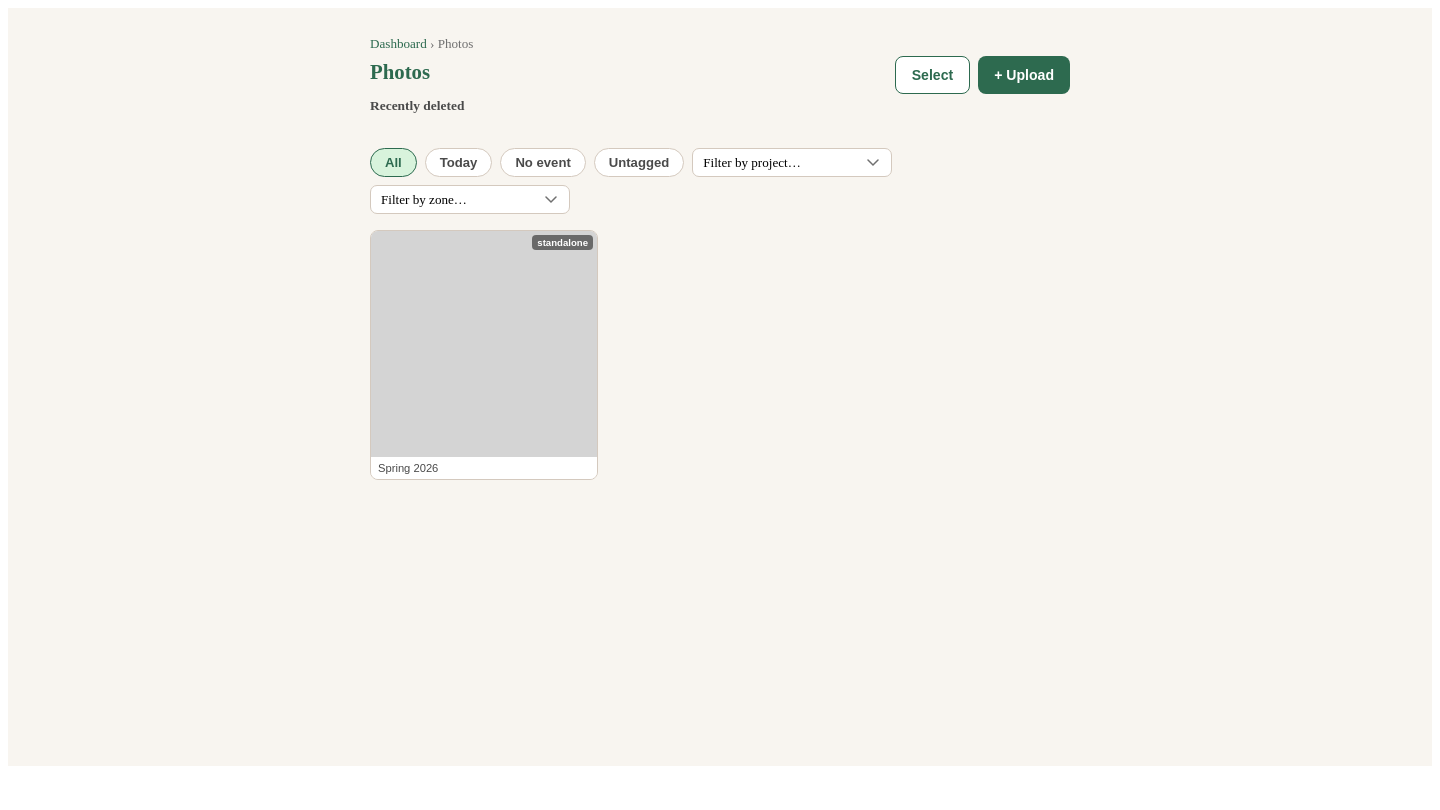
Test: BUG-PICKERCLIP-001 — the z150 selection bar must not cover the upload picker › can render the fixed bar and the upload form at the same time
Click the button "Select" at (932, 75), box [895, 56, 970, 94]
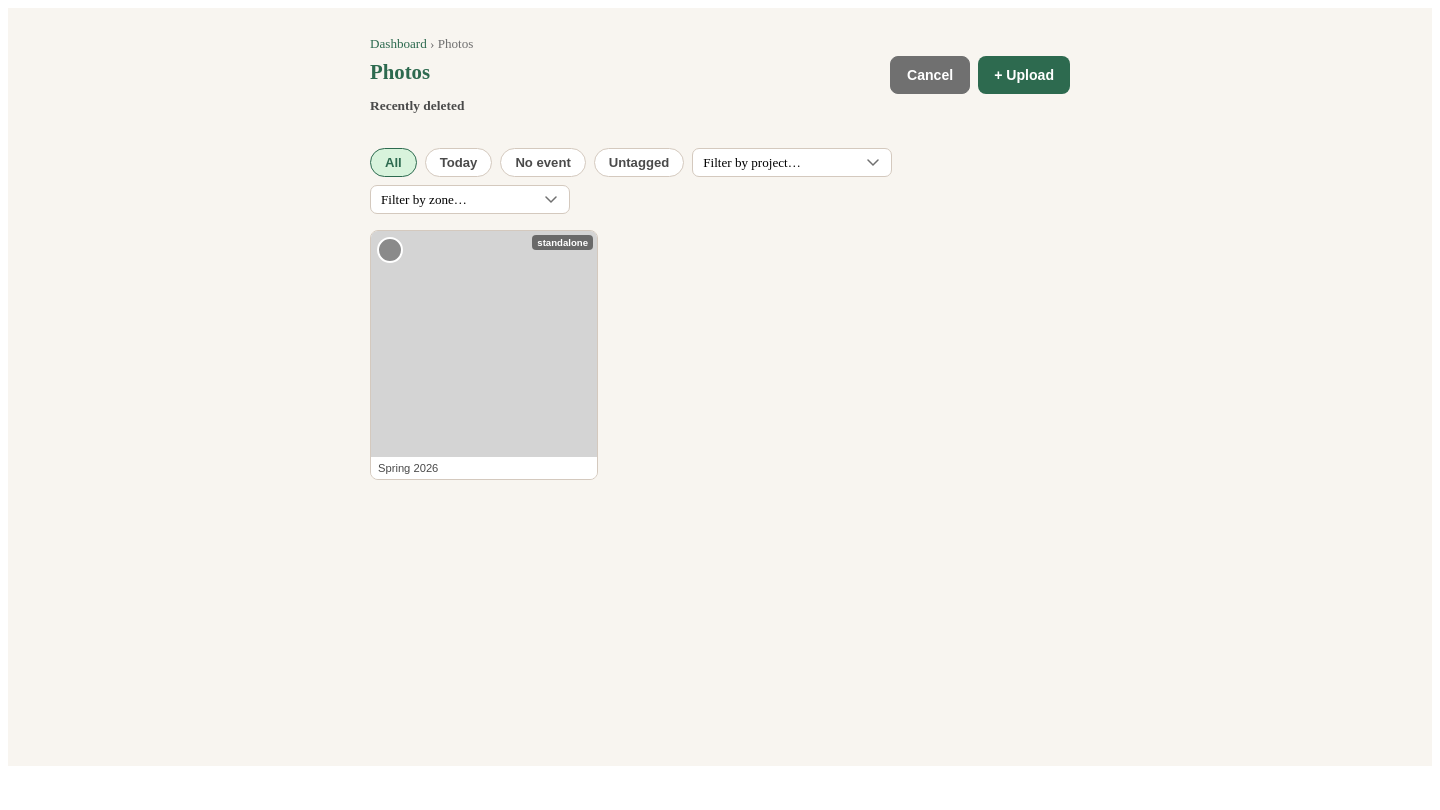
Click the button named "Garden photo" at (484, 355), box [370, 230, 598, 480]
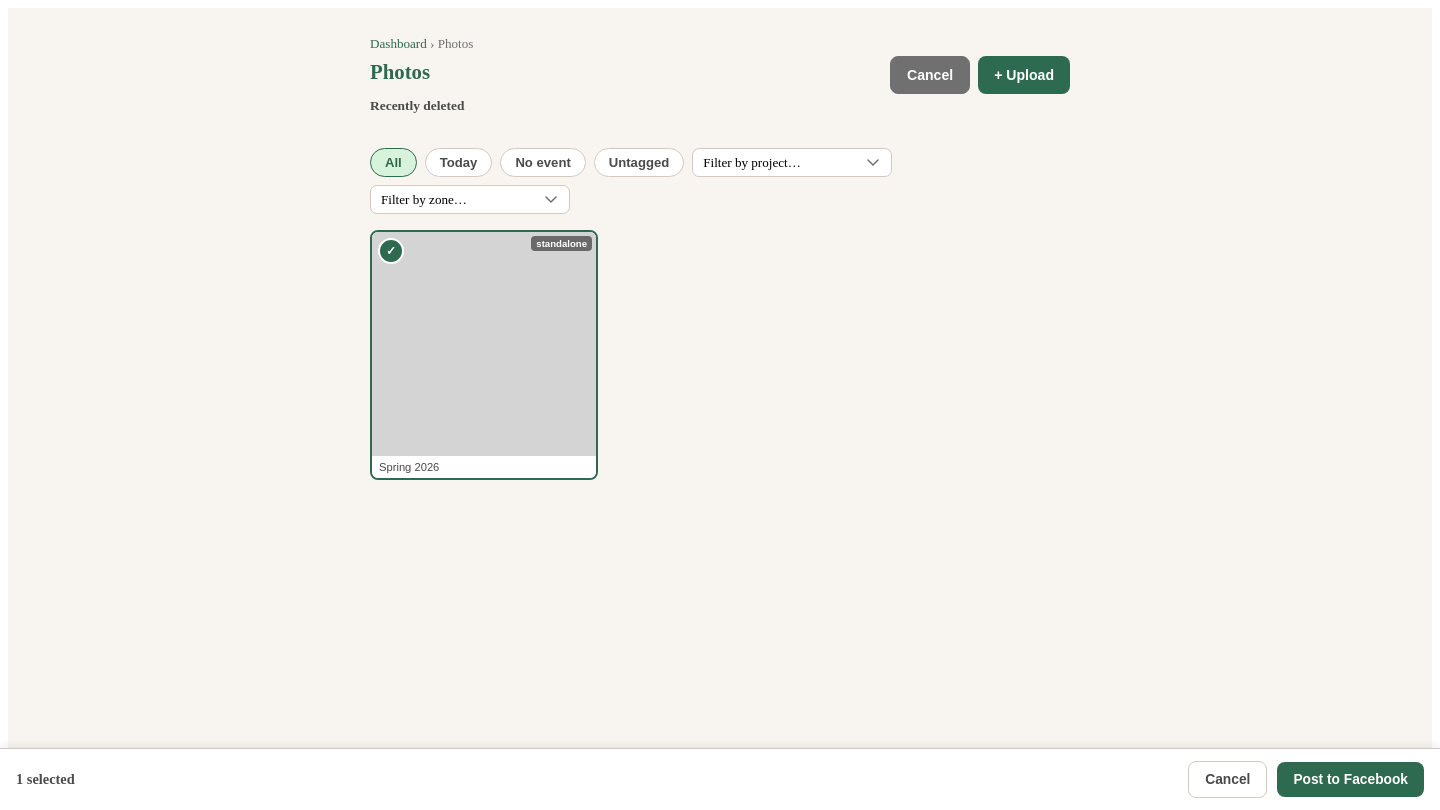
Click the button "+ Upload" at (1024, 75), box [978, 56, 1070, 94]
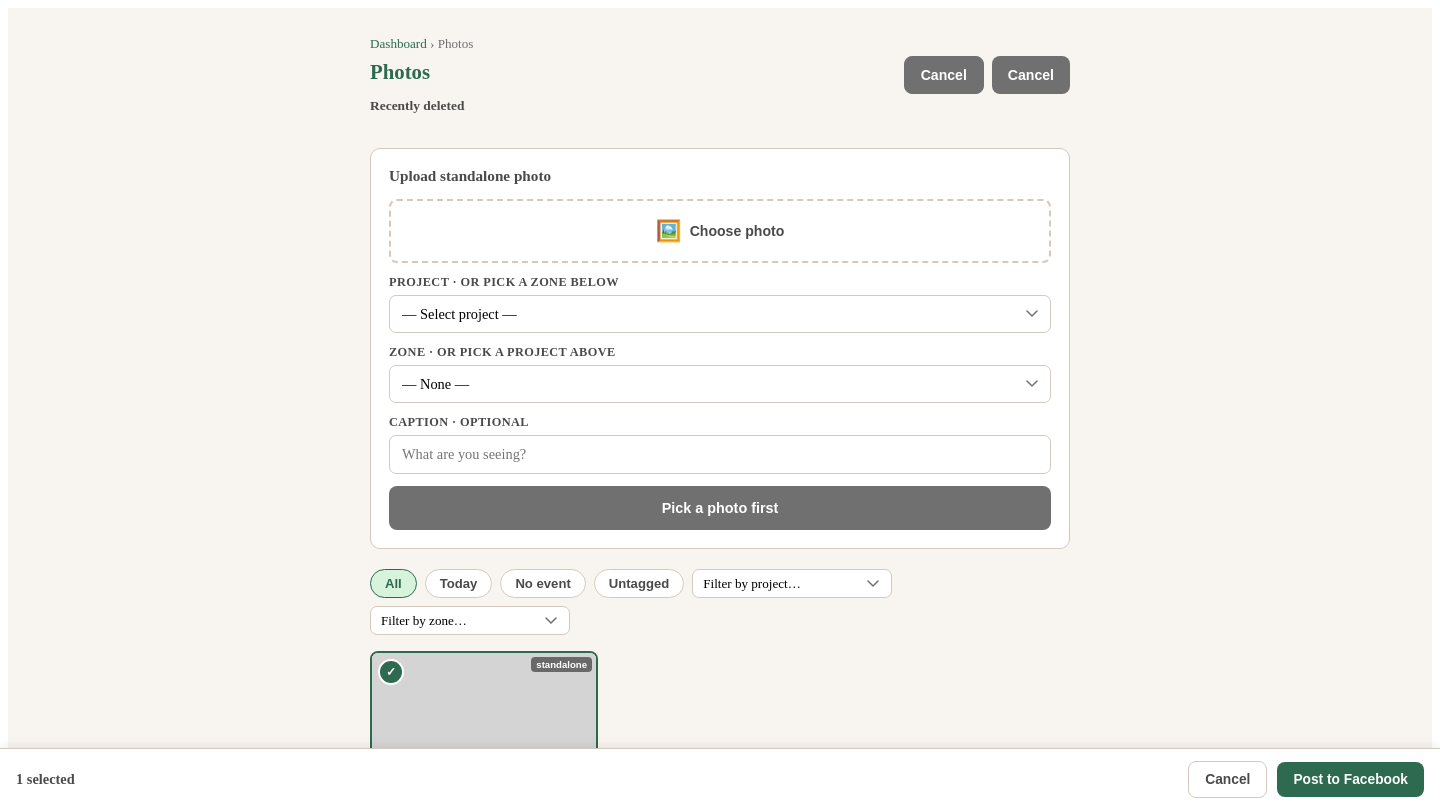
Select "Spring 2026" in the dropdown showing "Select project" below "Project · or pick a zone below" at (720, 314), box [389, 295, 1051, 333]
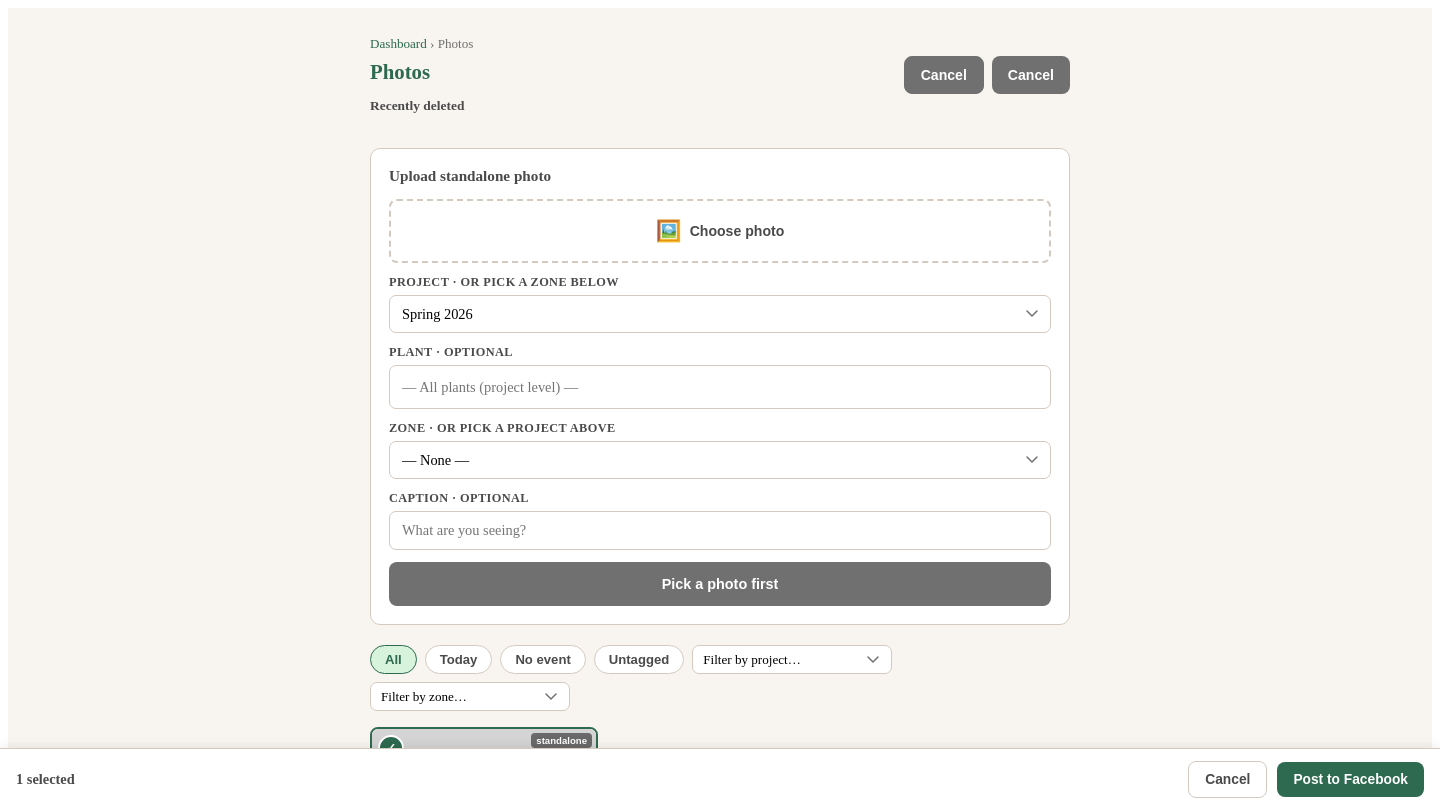
Check: the dropdown labelled "Plant · optional" is shown, box [389, 365, 1051, 409]
